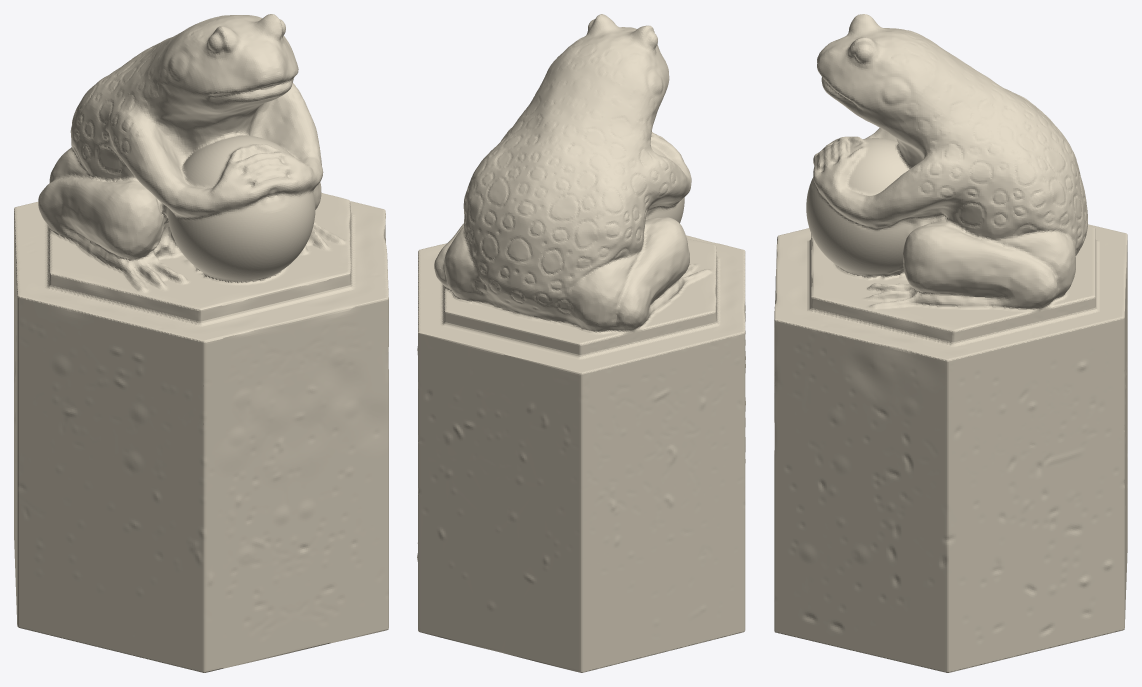
The model's file is Lone_Frog4_web.glb.
3 renders of one model, left to right at view 1: azimuth 30°, elevation 25°; view 2: azimuth 150°, elevation 25°; view 3: azimuth 270°, elevation 25°, orthographic. The views are drawn at different scales.
Visible parts, largest first — view 1: Mesh_0; view 2: Mesh_0; view 3: Mesh_0.
Part boxes in pixels (left/top/right/bottom): Mesh_0: left=14, top=14, right=388, bottom=672; Mesh_0: left=417, top=14, right=745, bottom=672; Mesh_0: left=774, top=14, right=1127, bottom=672.
Bounding box in the file's own units: 2.29 × 3.6 × 2.04.
